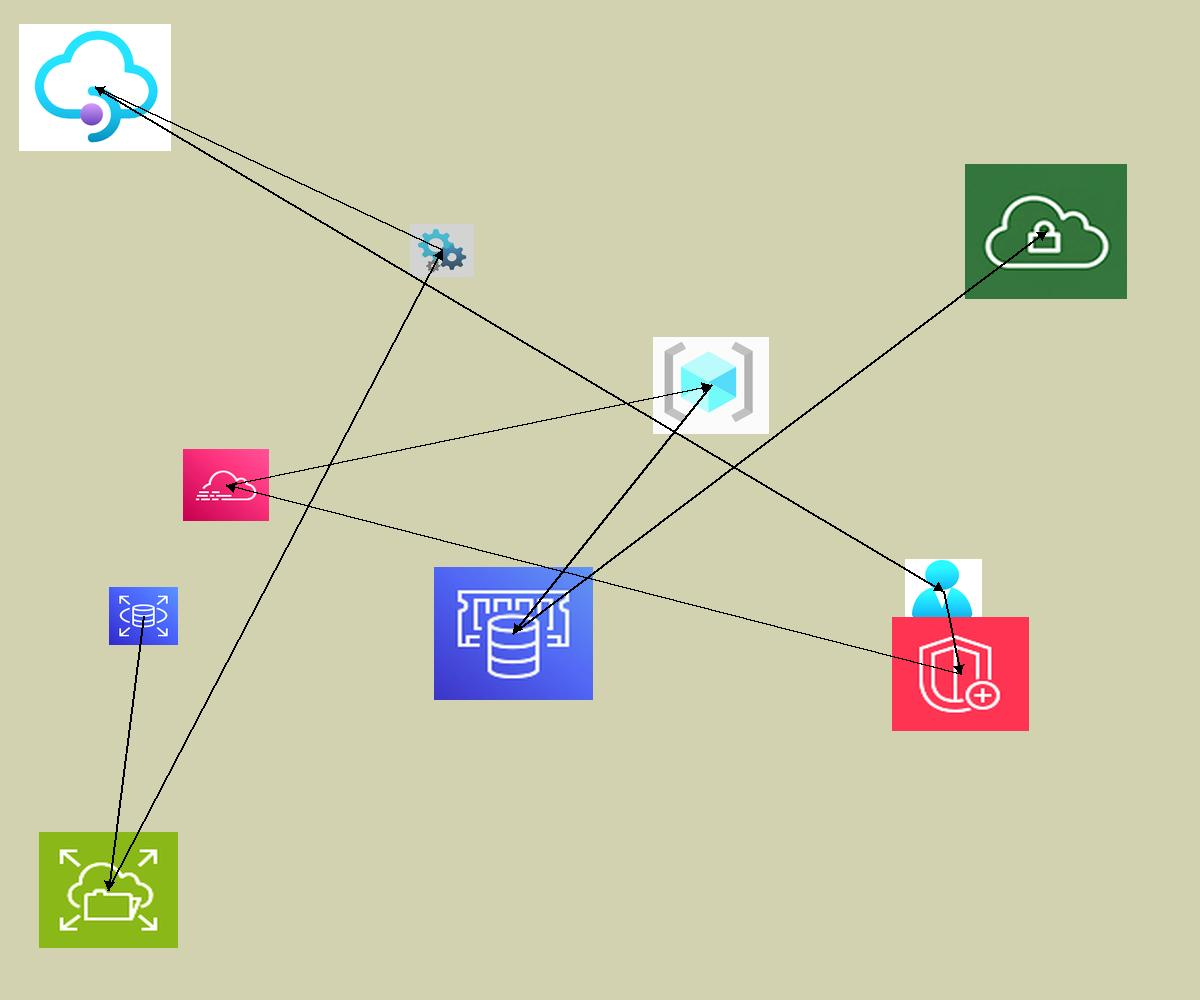AWS-CloudTrail: (183, 449, 269, 521)
AWS-EFS: (39, 832, 178, 948)
AWS-ElastiCache: (434, 567, 593, 700)
AWS-Private_vpc: (965, 164, 1127, 299)
AWS-RDS: (109, 587, 178, 645)
AWS-Shield: (892, 617, 1029, 731)
Azure_api: (410, 224, 474, 277)
Azure_api_gateway: (19, 24, 171, 151)
Azure_resource_group: (653, 337, 769, 434)
Azure_users: (905, 559, 982, 623)
